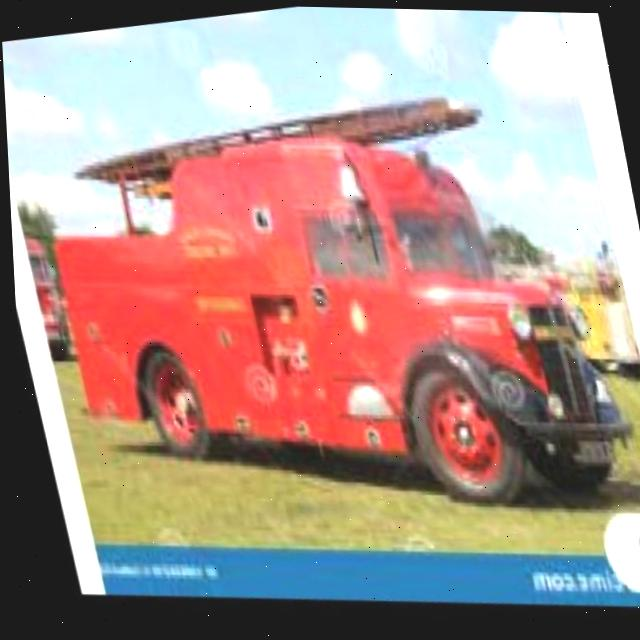emergency: (22, 65, 640, 560)
